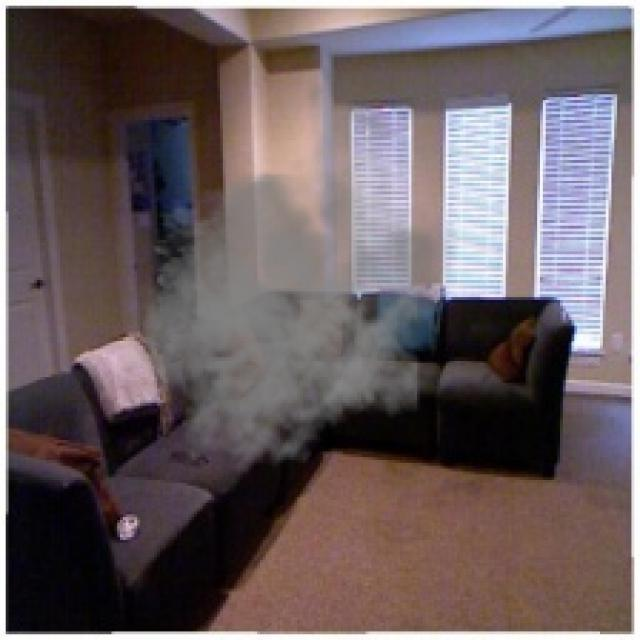Smoke: (117, 66, 460, 474)
